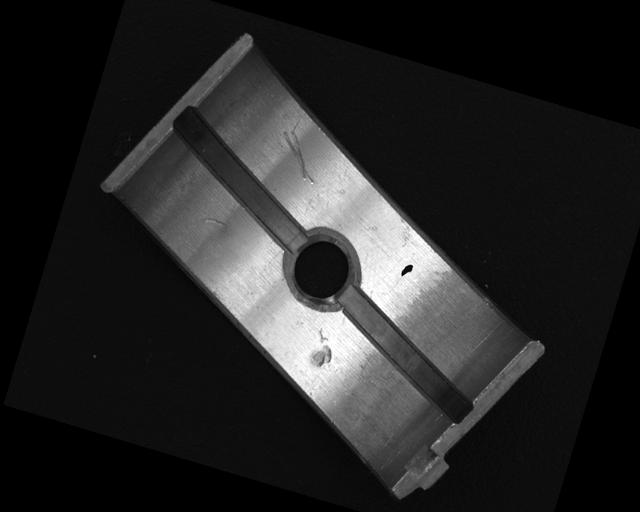blot: (399, 261, 414, 279)
bruise: (307, 326, 340, 372)
gap: (146, 103, 331, 255), (316, 285, 496, 427)
hole: (274, 222, 365, 314)
nick: (270, 126, 327, 186), (201, 214, 229, 230)
